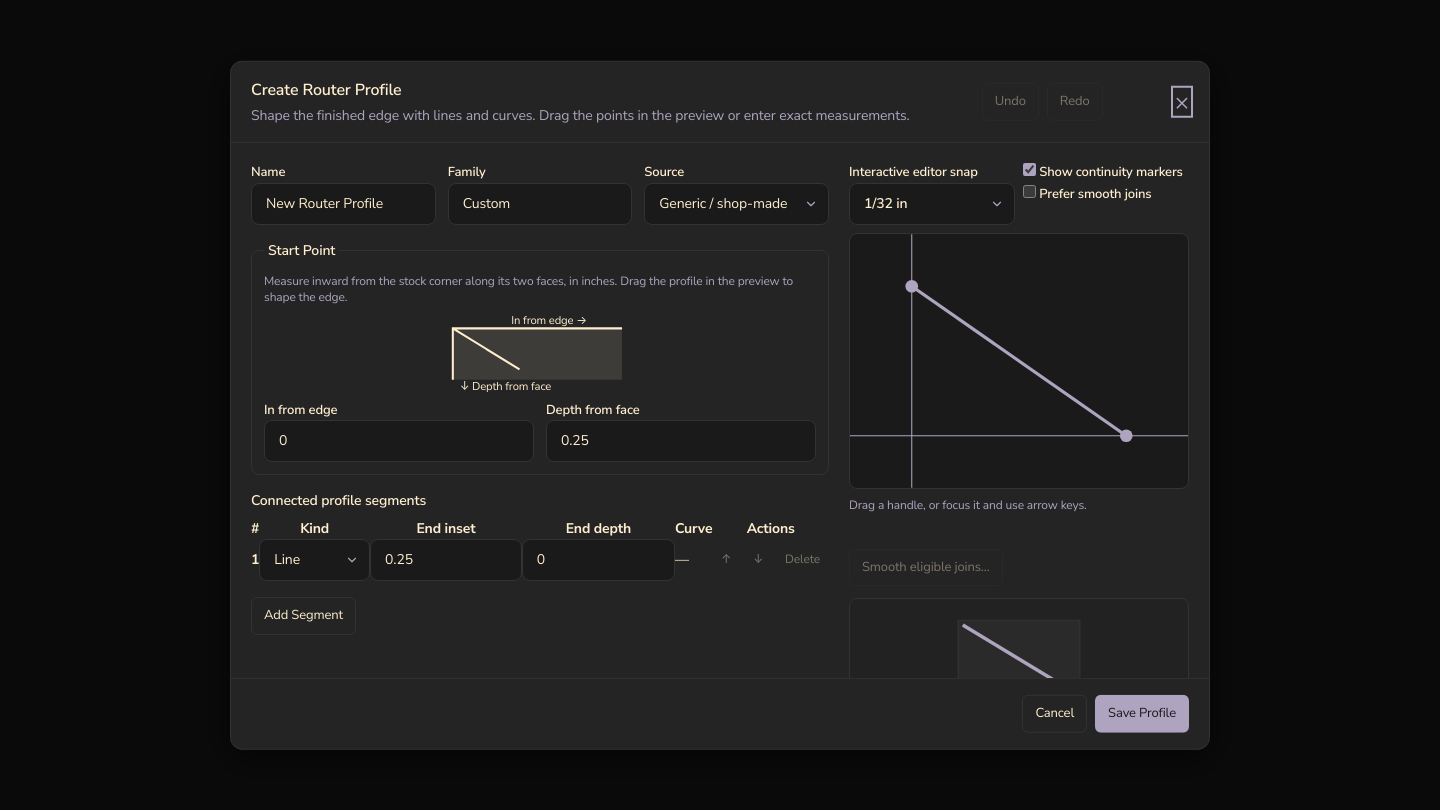
RouterProfileDefinitionDialog › converts a segment to an accessible cubic Bezier while preserving its endpoint
The width and height of the screenshot is (1440, 810).
Select "Cubic Bézier" in the dropdown named "Segment 1 kind" at (315, 560), box 259,539 -> 370,581
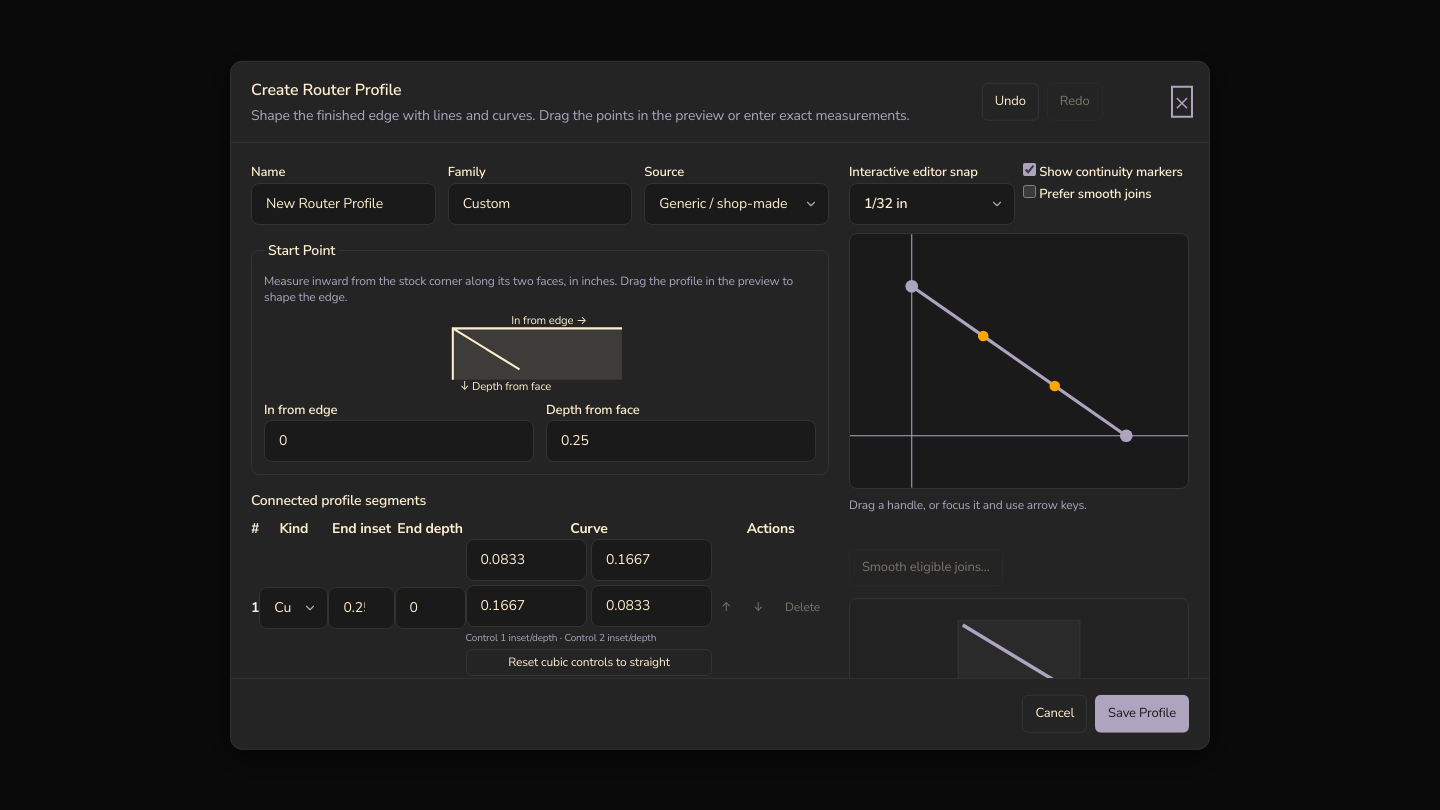
Expected: the number field named "Segment 1 endpoint inset" holds "0.25", 328,586 -> 394,628
Expected: the number field named "Segment 1 control 1 inset" holds "0.0833", 466,539 -> 587,581
